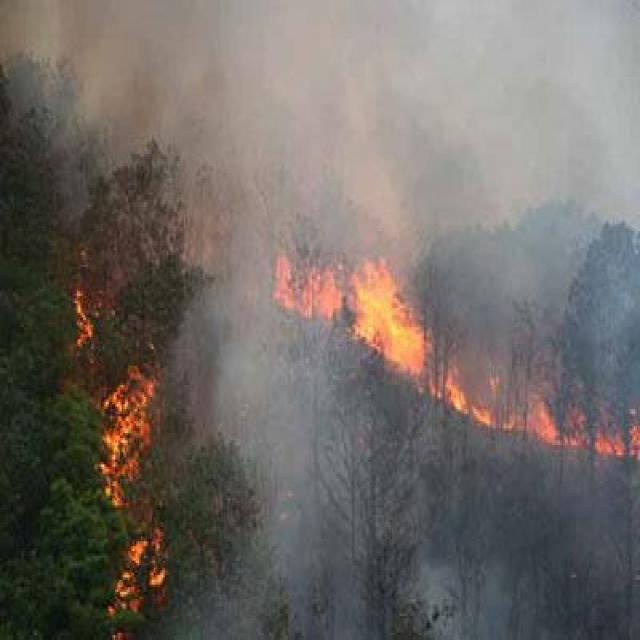fire: (268, 235, 635, 450), (59, 265, 181, 614)
